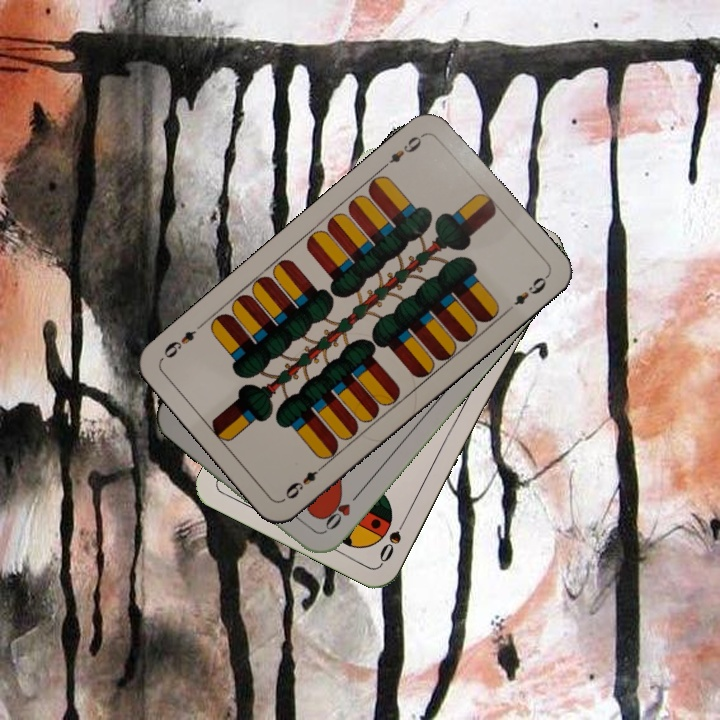E9: (279, 460, 328, 504), (378, 129, 428, 172)
HO: (317, 488, 363, 536)
SO: (375, 511, 411, 565)
